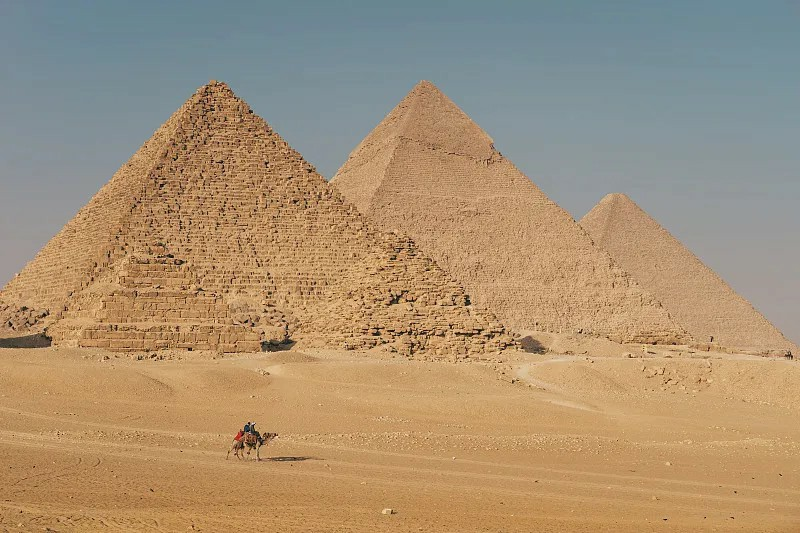Pyramid: (2, 79, 391, 351), (329, 81, 701, 351), (578, 193, 800, 354), (319, 231, 523, 356), (50, 244, 265, 356)
